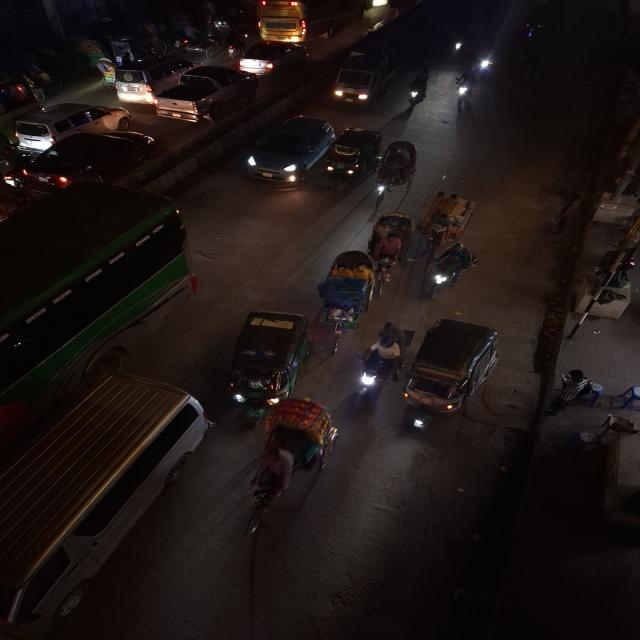bus: (8, 205, 199, 374)
car: (1, 383, 200, 625), (241, 112, 338, 188), (151, 64, 261, 124), (11, 98, 135, 151), (241, 38, 311, 74), (110, 68, 156, 107)
cng: (403, 318, 504, 432), (224, 306, 316, 428), (324, 131, 374, 184)
motorcycle: (404, 66, 432, 115), (452, 65, 481, 109), (225, 36, 243, 58)
pickup_van: (333, 51, 397, 106), (175, 23, 225, 59)
rickshaw: (238, 395, 341, 542), (319, 248, 377, 358), (418, 190, 475, 272), (366, 210, 414, 298), (371, 137, 419, 211), (90, 56, 117, 92)
